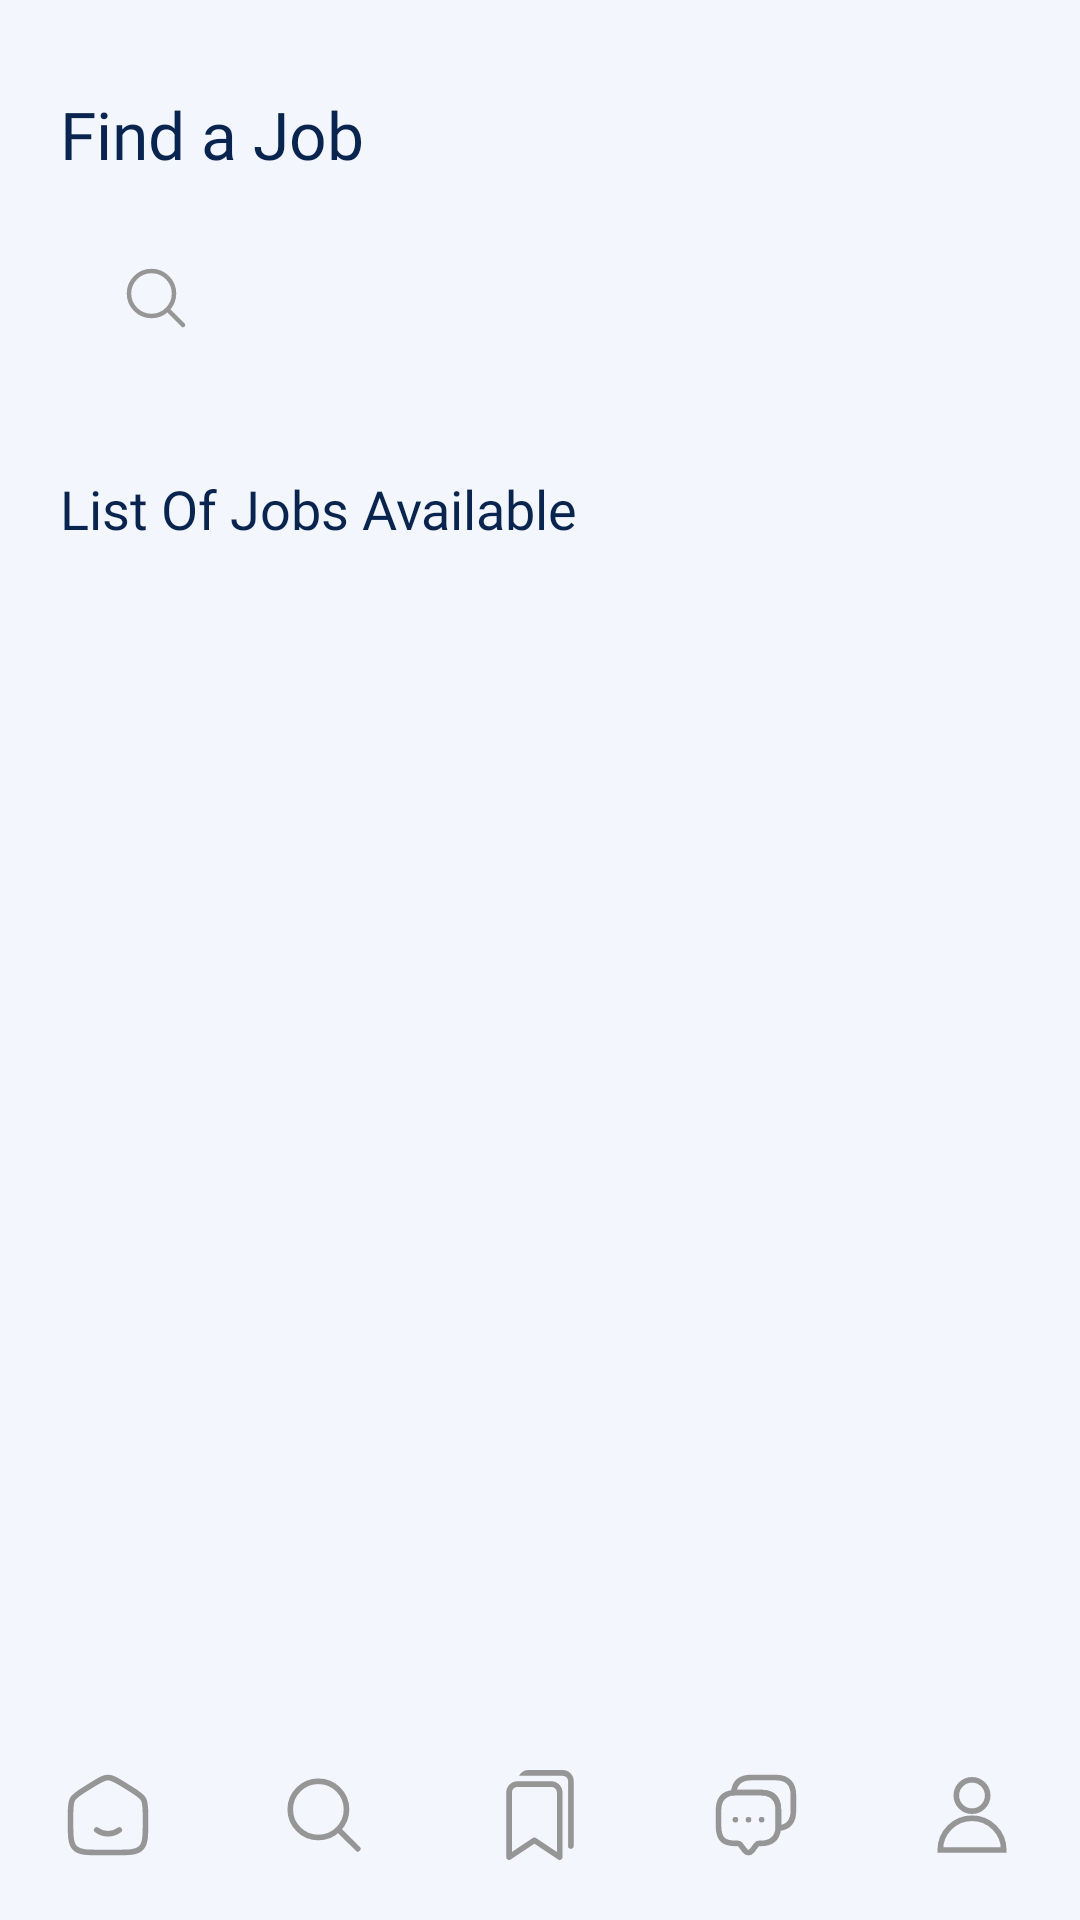

Icon bounding boxes for this 1080×1920 phone screenshot, format (x1, y1, x2, y2):
bookmarks: (506, 1770, 574, 1860)
home: (67, 1774, 149, 1856)
messages: (715, 1774, 797, 1856)
person male: (937, 1777, 1007, 1853)
search: (287, 1778, 361, 1852)
